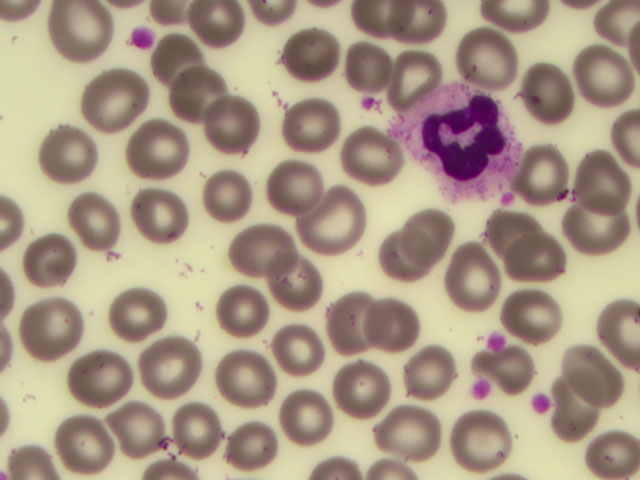Platelets: (127, 25, 159, 54), (471, 373, 493, 409), (531, 394, 555, 416), (362, 94, 381, 113), (488, 331, 503, 349)
RBC: (82, 67, 148, 132), (37, 120, 103, 185), (129, 113, 195, 178), (157, 64, 223, 129), (155, 29, 221, 94), (215, 97, 281, 162), (275, 17, 341, 82), (332, 27, 398, 92), (376, 25, 442, 90), (459, 26, 525, 91), (515, 65, 581, 130), (572, 52, 638, 117), (515, 140, 581, 205), (559, 141, 625, 206), (566, 193, 632, 258), (503, 233, 569, 298), (478, 200, 544, 265), (450, 240, 516, 305), (402, 200, 468, 265), (378, 224, 444, 289), (300, 191, 366, 256), (269, 155, 335, 220), (344, 122, 410, 187), (284, 93, 350, 158), (199, 159, 265, 224), (128, 185, 194, 250), (73, 189, 139, 254), (31, 226, 97, 291), (22, 293, 88, 358), (110, 277, 176, 342), (72, 345, 138, 410), (138, 327, 204, 392), (214, 280, 280, 345), (224, 215, 290, 280), (255, 246, 321, 311), (266, 322, 332, 387), (220, 341, 286, 406), (164, 389, 230, 454), (118, 404, 184, 469), (48, 408, 114, 473), (218, 415, 284, 480), (272, 380, 338, 445), (329, 353, 395, 418), (326, 283, 392, 348), (361, 293, 427, 358), (397, 338, 463, 403), (373, 407, 439, 472), (440, 404, 506, 469), (554, 378, 620, 443), (552, 339, 618, 404), (574, 300, 640, 365), (505, 282, 571, 347), (52, 1, 118, 65), (590, 428, 640, 480)
WBC: (399, 78, 520, 207)
